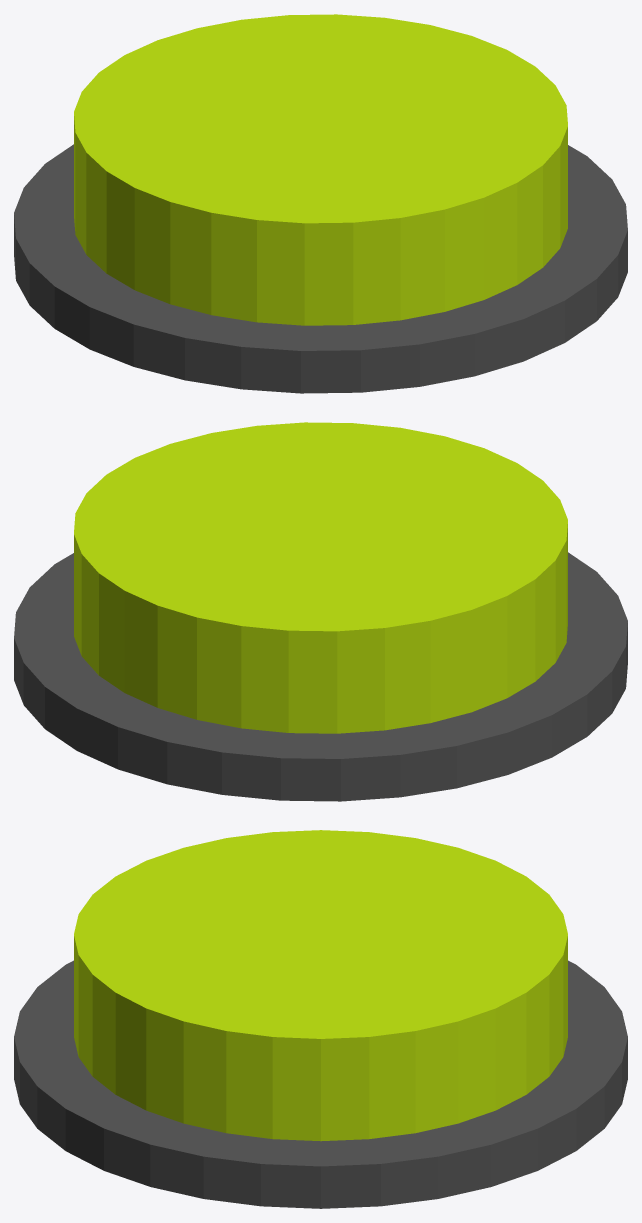
The model's file is green_button.glb.
The picture shows the model from 3 angles, top to bottom: view 1: azimuth 30°, elevation 25°; view 2: azimuth 150°, elevation 25°; view 3: azimuth 270°, elevation 25°; orthographic projection.
Visible parts, largest first — view 1: Cylinder.003, Cylinder.002; view 2: Cylinder.003, Cylinder.002; view 3: Cylinder.003, Cylinder.002.
Part boxes in pixels (bbox=[...]): Cylinder.003: bbox=[74, 14, 567, 325]; Cylinder.002: bbox=[14, 144, 627, 393]; Cylinder.003: bbox=[74, 422, 567, 733]; Cylinder.002: bbox=[14, 552, 627, 801]; Cylinder.003: bbox=[74, 830, 567, 1141]; Cylinder.002: bbox=[14, 960, 627, 1208].
Bounding box in the file's own units: 0.8434 × 0.2191 × 0.8434.
